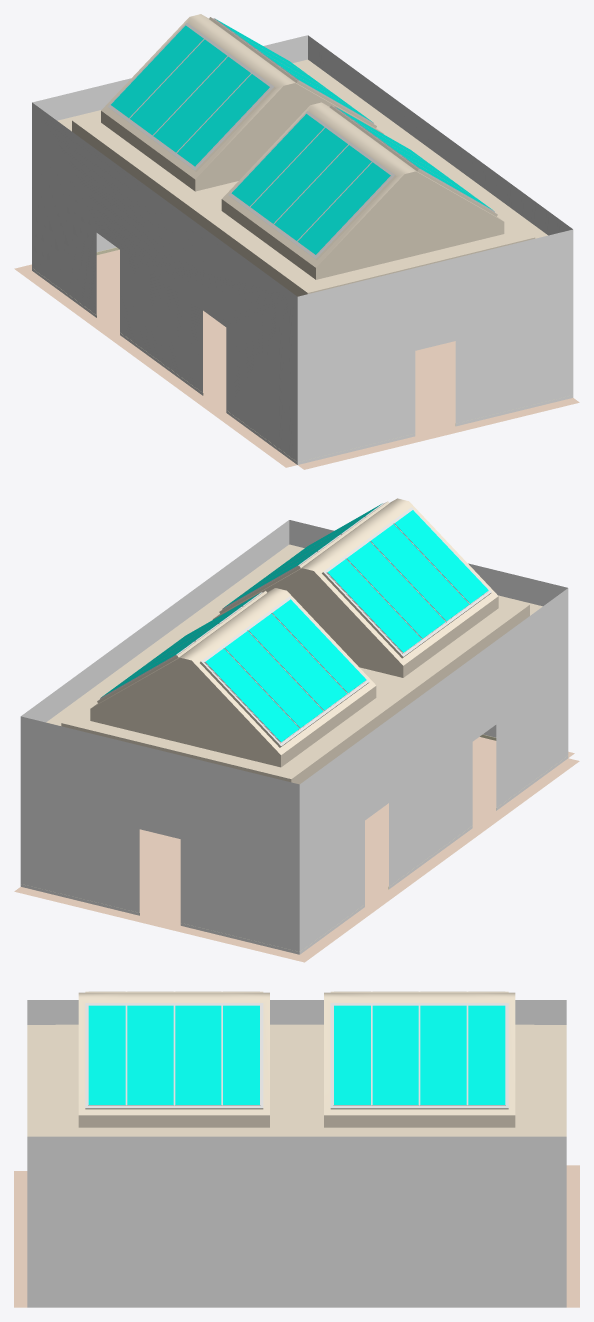
Rendered from Building.fbx.
The picture shows the model from 3 angles, top to bottom: view 1: azimuth 30°, elevation 25°; view 2: azimuth 150°, elevation 25°; view 3: azimuth 270°, elevation 25°; orthographic projection.
Visible parts, largest first — view 1: Walls_3, Roof_3, Floor; view 2: Walls_3, Roof_3, Floor; view 3: Walls_3, Roof_3, Floor.
Part boxes in pixels (box(x1,y1,x2,y2)): Walls_3: box(32, 35, 573, 464); Roof_3: box(57, 14, 547, 296); Floor: box(14, 249, 579, 469); Walls_3: box(20, 520, 568, 954); Roof_3: box(46, 498, 542, 784); Floor: box(14, 737, 579, 962); Walls_3: box(27, 1000, 566, 1307); Roof_3: box(27, 991, 566, 1136); Floor: box(14, 1165, 579, 1307).
Size of the model in its own units: 1251 by 999 by 2100.
